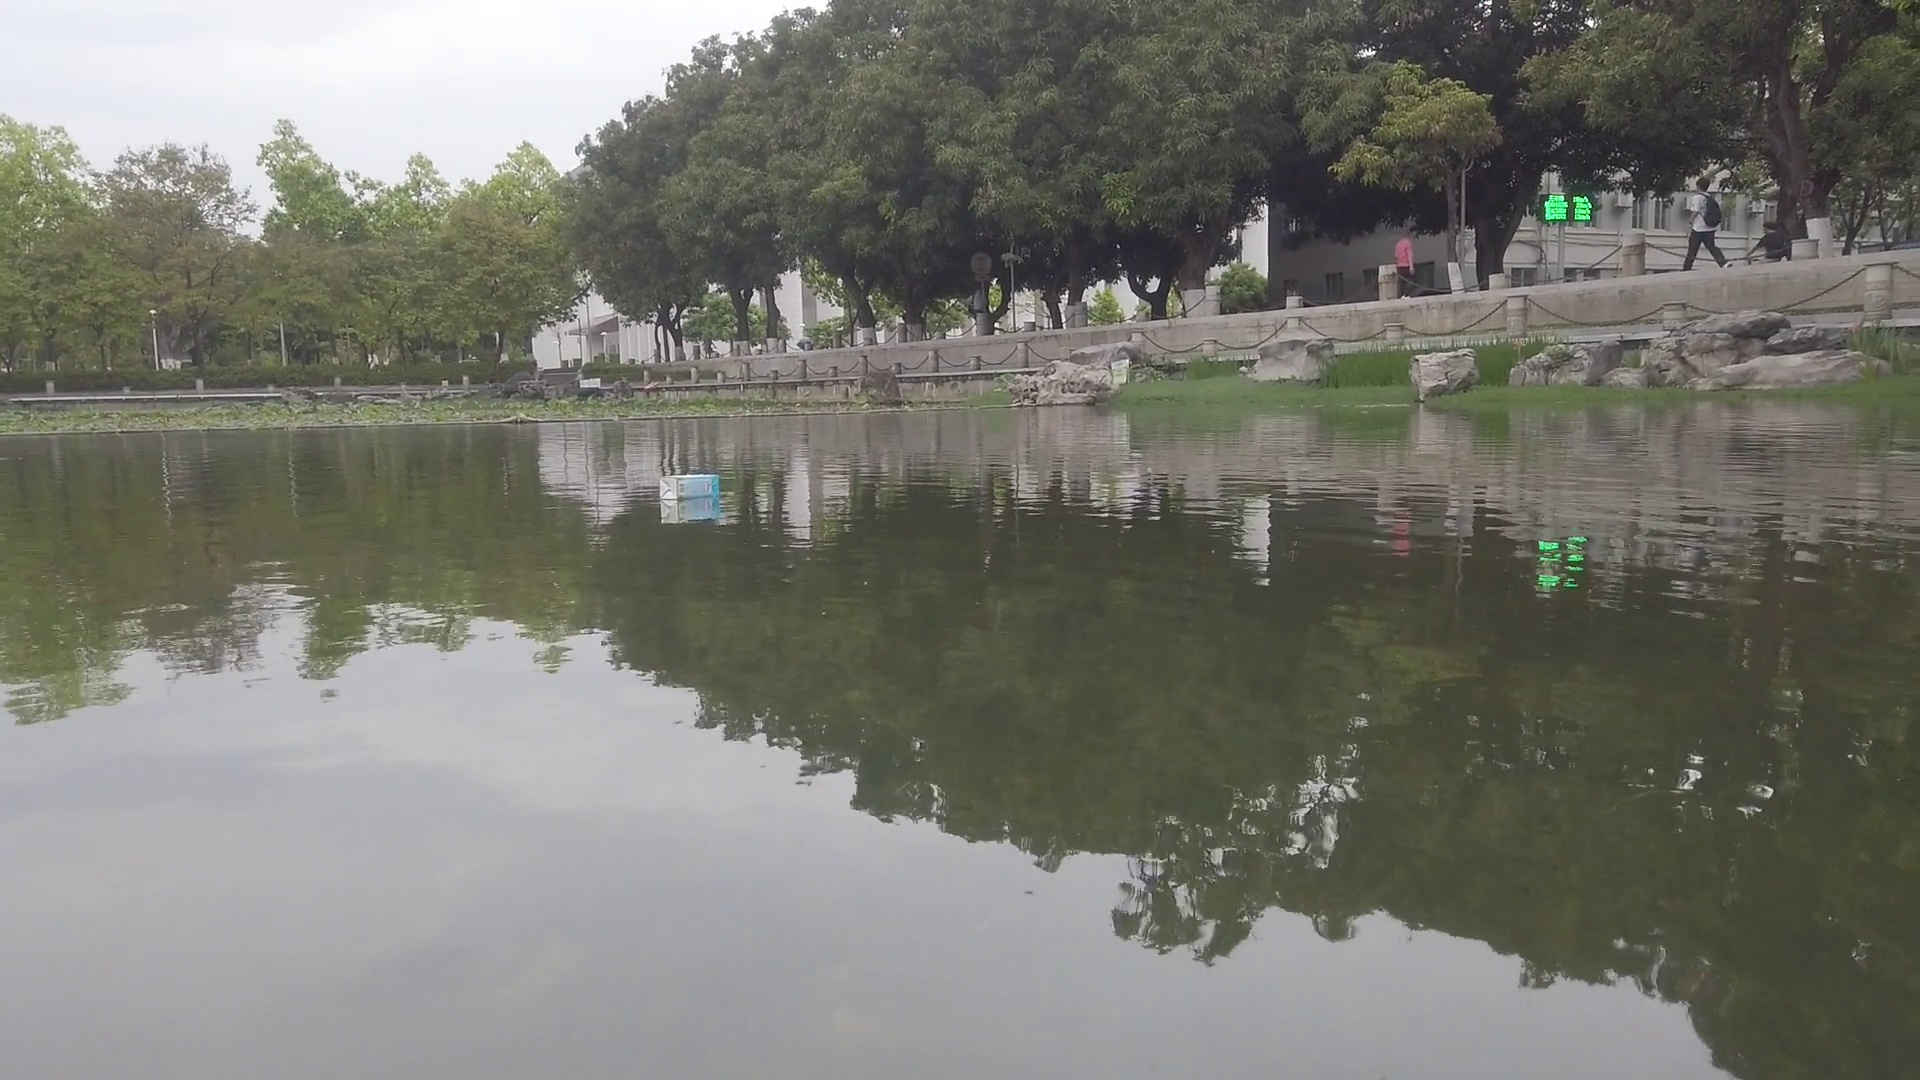carton: (657, 475, 720, 500)
